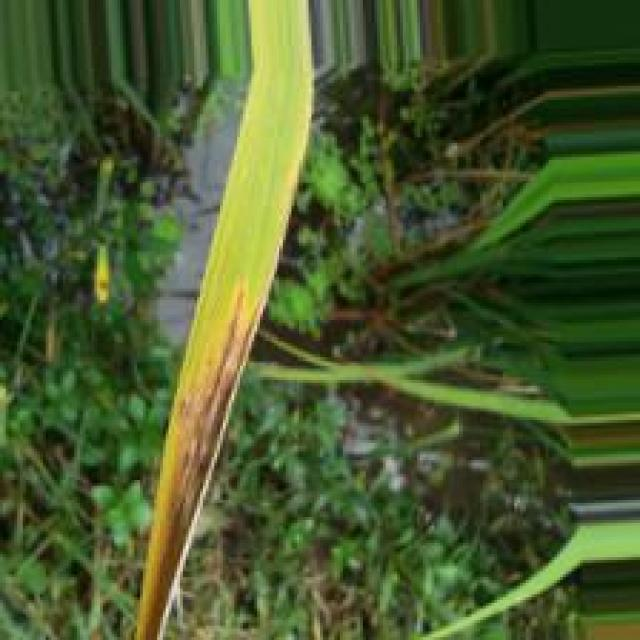Rice False Smut: (133, 276, 262, 640)
